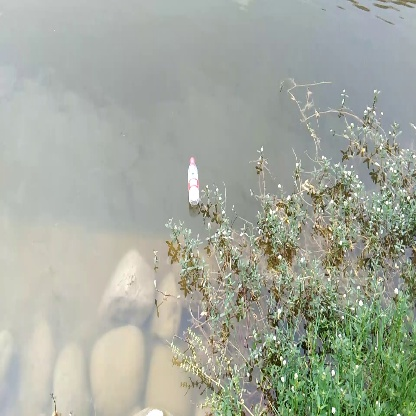bottle: (181, 154, 204, 209)
